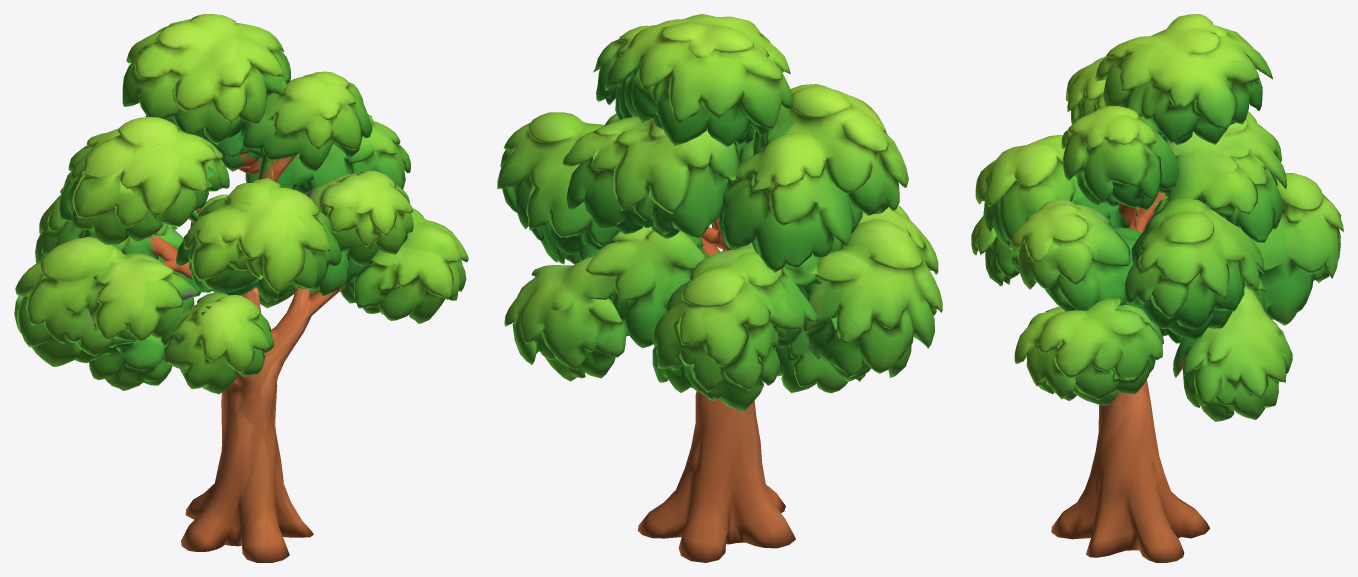
File: Meshy_AI_Sunlit_Cartoon_Tree_1024231204_texture.fbx
3 views of the same model, side by side, from view 1: azimuth 30°, elevation 25°; view 2: azimuth 150°, elevation 25°; view 3: azimuth 270°, elevation 25° (orthographic). The views are drawn at different scales.
Visible parts, largest first — view 1: Mesh_0; view 2: Mesh_0; view 3: Mesh_0.
Boxes of the visible parts, <box> form: Mesh_0: <box>14,14,468,562</box>; Mesh_0: <box>497,14,942,562</box>; Mesh_0: <box>971,14,1343,562</box>.
Size of the model in its own units: 81.54 by 95.21 by 64.26.
Materials: 1 (1 with a texture image).
